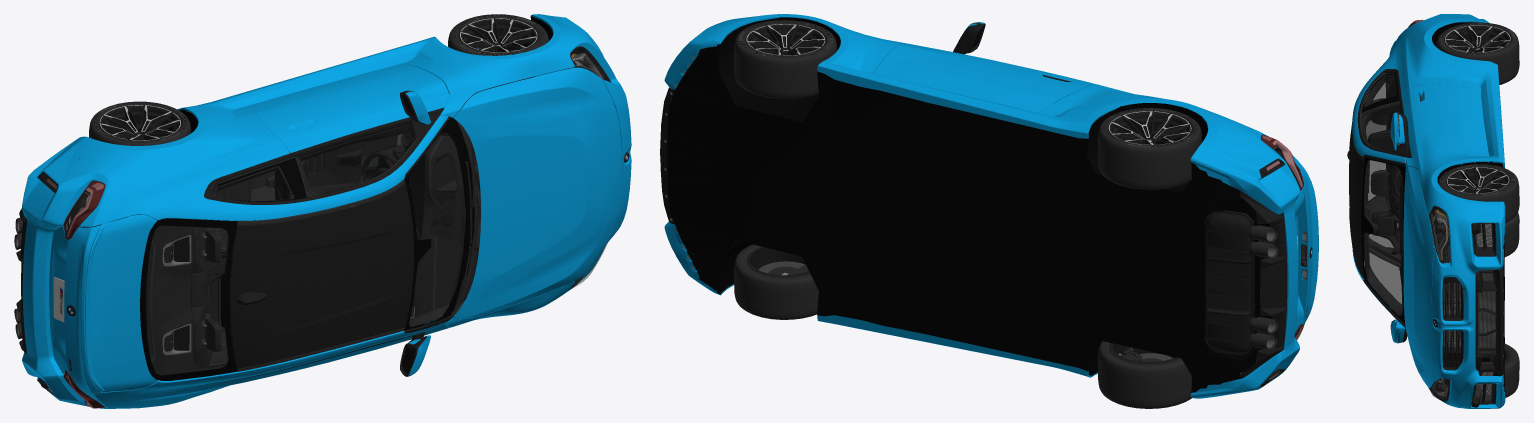
The picture shows the model from 3 angles, left to right: view 1: azimuth 30°, elevation 25°; view 2: azimuth 150°, elevation 25°; view 3: azimuth 270°, elevation 25°; orthographic projection. The views are drawn at different scales.
Visible parts, largest first — view 1: body_mesh, wheel_RL_mesh, wheel_FL_mesh; view 2: body_mesh, wheel_RL_mesh, wheel_FL_mesh, wheel_FR_mesh, wheel_RR_mesh; view 3: body_mesh, wheel_RL_mesh, wheel_FL_mesh, wheel_FR_mesh, wheel_RR_mesh.
Part boxes in pixels (<box>): body_mesh: <box>14,14,631,408</box>; wheel_RL_mesh: <box>89,101,191,145</box>; wheel_FL_mesh: <box>448,14,548,55</box>; body_mesh: <box>660,14,1318,398</box>; wheel_RL_mesh: <box>1097,108,1201,193</box>; wheel_FL_mesh: <box>734,16,837,98</box>; wheel_FR_mesh: <box>734,244,818,319</box>; wheel_RR_mesh: <box>1098,341,1191,408</box>; body_mesh: <box>1347,14,1505,408</box>; wheel_RL_mesh: <box>1436,22,1519,84</box>; wheel_FL_mesh: <box>1437,164,1519,222</box>; wheel_FR_mesh: <box>1504,343,1519,397</box>; wheel_RR_mesh: <box>1504,212,1519,256</box>.
Size of what is drawn, in the model's own units: 4.58 by 2.08 by 1.42.
22 materials, 18 textured.
